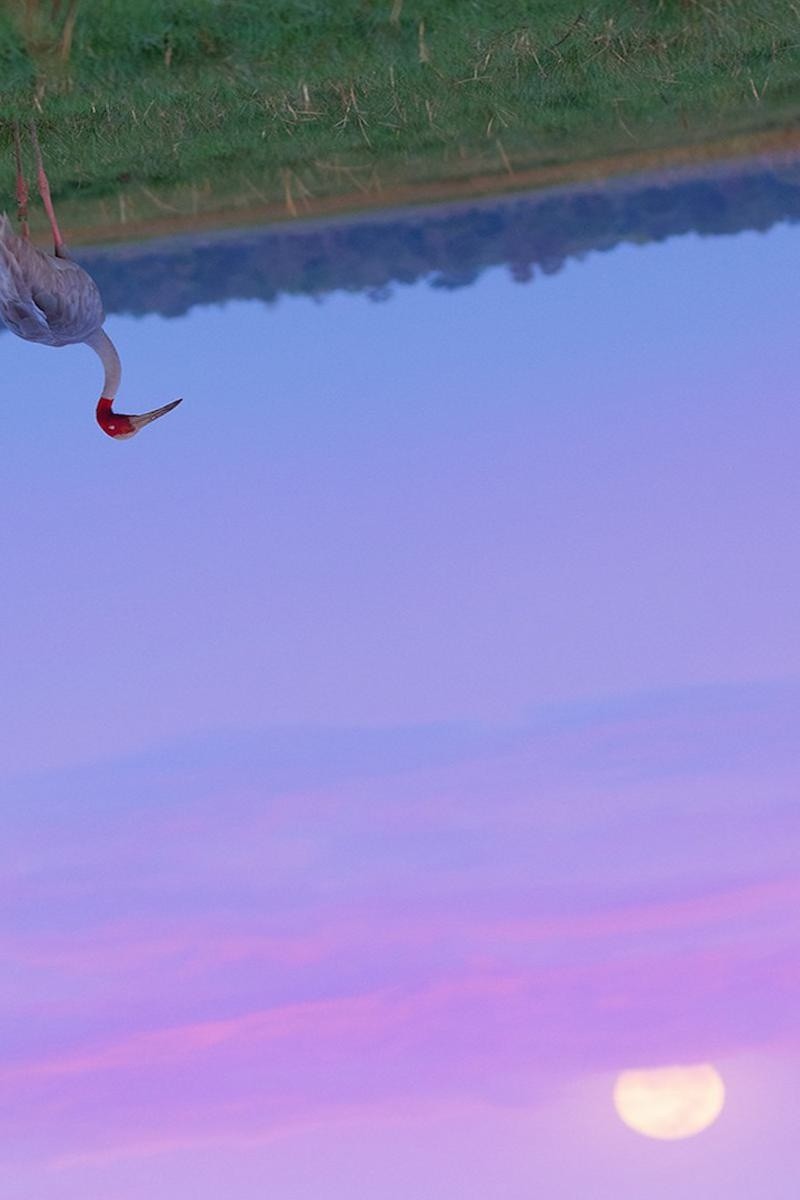crane: (1, 1, 201, 450)
